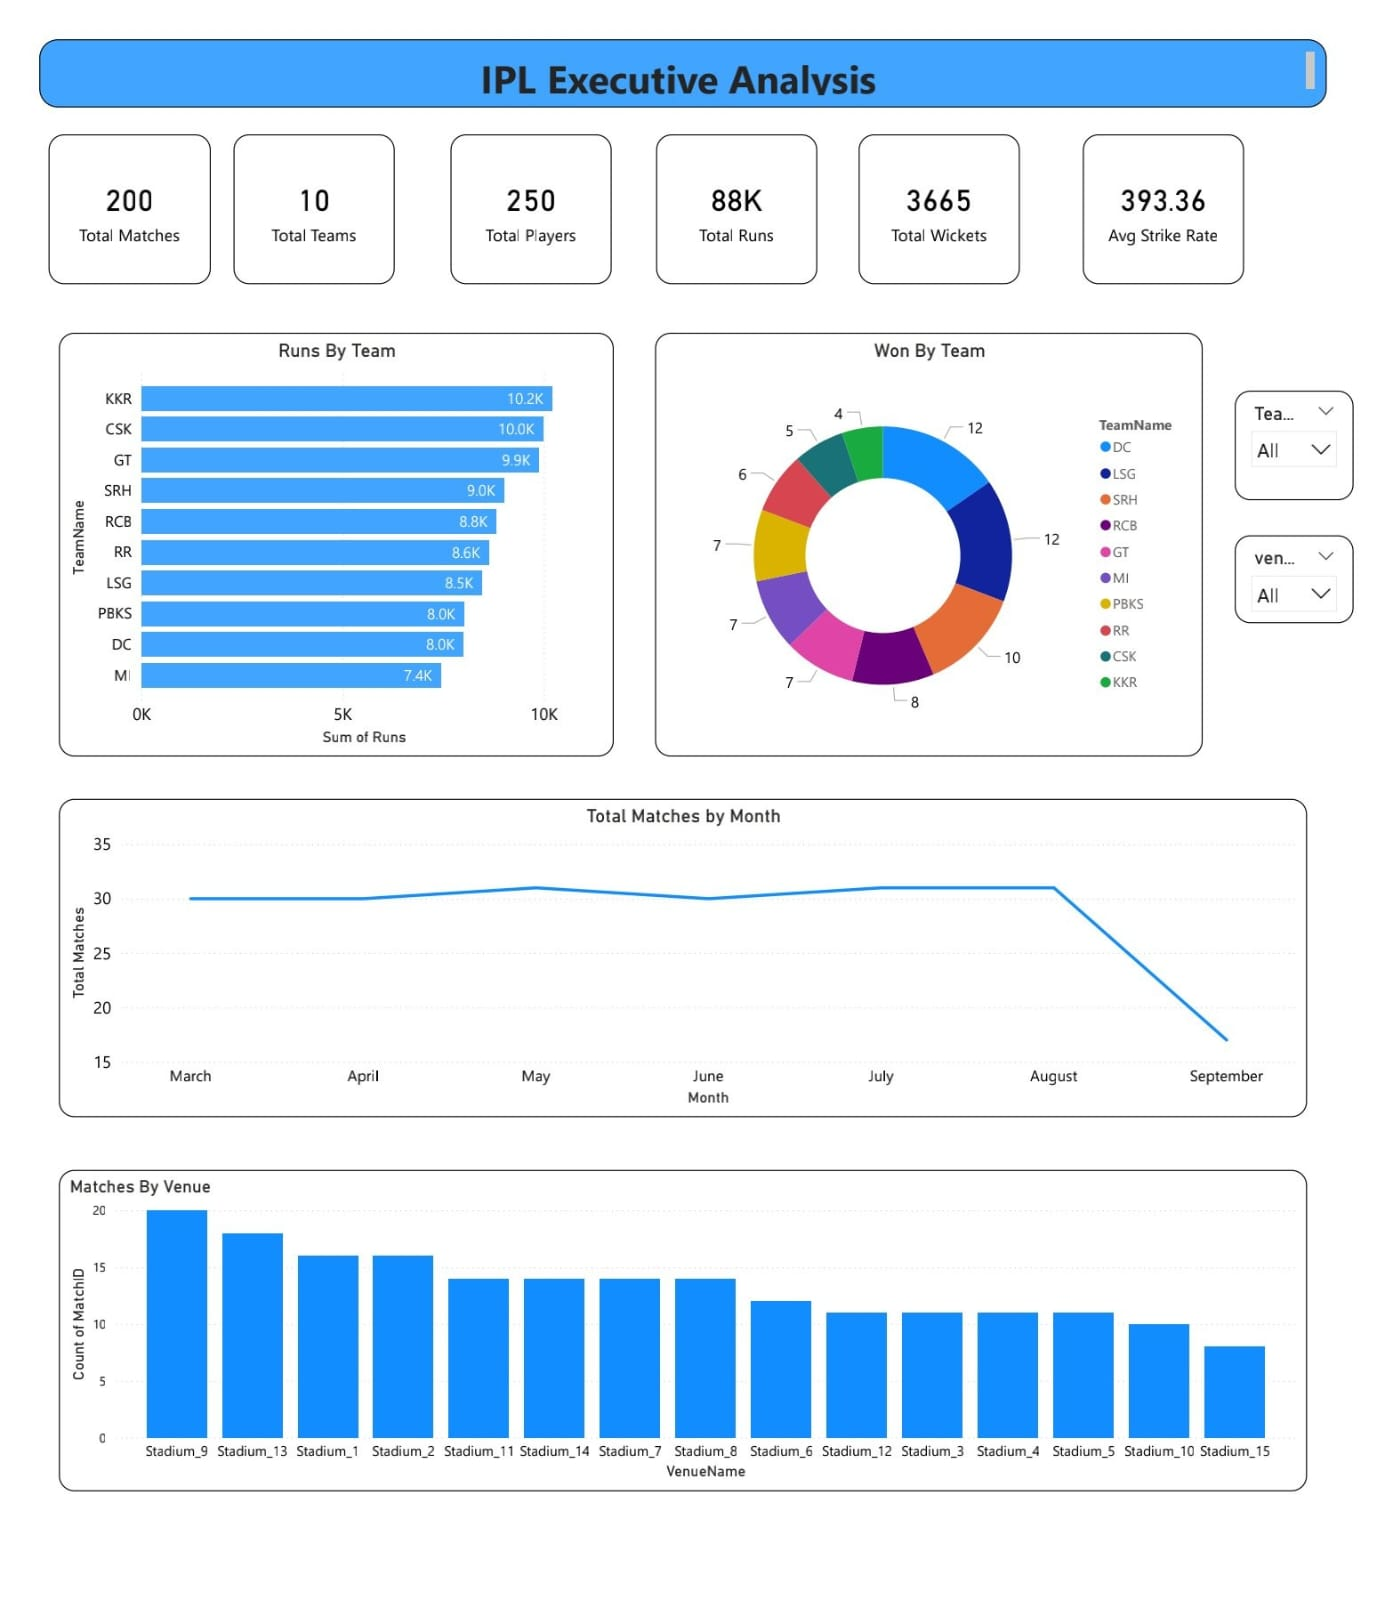

The page's visual inventory and layout, read from the dashboard file:
{"tool":"powerbi","page":{"name":"Exective Analysis","canvas":[1300,1500],"ordinal":0},"visuals":[{"type":"card","fields":{"Values":["BattingStats.Total Matches"]},"box":[23.3,105.7,156.4,145.5],"z":0},{"type":"textbox","box":[13.7,13.7,1246,65.9],"z":1000},{"type":"textbox","box":[92,535,639,150],"z":2000},{"type":"card","fields":{"Values":["Teams.Total Teams"]},"box":[201.7,105.7,156.4,145.5],"z":3000},{"type":"card","fields":{"Values":["Players.Total Players"]},"box":[411.7,105.7,156.4,145.5],"z":4000},{"type":"card","fields":{"Values":["BattingStats.Total Runs"]},"box":[610.6,105.7,156.4,145.5],"z":5000},{"type":"card","fields":{"Values":["BattingStats.Total Wickets"]},"box":[806.9,105.7,156.4,145.5],"z":6000},{"type":"card","fields":{"Values":["BattingStats.Avg Strike Rate"]},"box":[1023.7,105.7,156.4,145.5],"z":7000},{"type":"barChart","fields":{"Y":["Sum(BattingStats.Runs)"],"Category":["Teams.TeamName"]},"box":[45.7,325.7,521.4,360],"z":8000},{"type":"donutChart","fields":{"Category":["Teams.TeamName"],"Y":["Sum(PointsTable.Won)"]},"box":[620,325.7,530,360],"z":9000},{"type":"lineChart","fields":{"Category":["Matches.MatchDate.Variation.Date Hierarchy.Month"],"Y":["BattingStats.Total Matches"]},"box":[33.1,749,1207.5,308.3],"z":10000},{"type":"slicer","fields":{"Values":["Teams.TeamName"]},"box":[1171.4,354.3,114.3,105.7],"z":11000},{"type":"slicer","fields":{"Values":["deliveries.venue"]},"box":[1171.4,494.3,114.3,84.3],"z":12000},{"type":"clusteredColumnChart","fields":{"Category":["Venues.VenueName"],"Y":["CountNonNull(Matches.MatchID)"]},"box":[33.1,1108.2,1207.5,310.8],"z":13000}]}

Visuals, with their boxes in screenshot pixels (x1, y1, x2, y2), scaled from the page's 1300x1500 canvas onto the 1393x1600 screenshot:
card - BattingStats.Total Matches: l=25, t=113, r=193, b=268
textbox: l=15, t=15, r=1350, b=85
textbox: l=99, t=571, r=783, b=731
card - Teams.Total Teams: l=216, t=113, r=384, b=268
card - Players.Total Players: l=441, t=113, r=609, b=268
card - BattingStats.Total Runs: l=654, t=113, r=822, b=268
card - BattingStats.Total Wickets: l=865, t=113, r=1032, b=268
card - BattingStats.Avg Strike Rate: l=1097, t=113, r=1265, b=268
barChart - Sum(BattingStats.Runs) x Teams.TeamName: l=49, t=347, r=608, b=731
donutChart - Teams.TeamName x Sum(PointsTable.Won): l=664, t=347, r=1232, b=731
lineChart - Matches.MatchDate.Variation.Date Hierarchy.Month x BattingStats.Total Matches: l=35, t=799, r=1329, b=1128
slicer - Teams.TeamName: l=1255, t=378, r=1378, b=491
slicer - deliveries.venue: l=1255, t=527, r=1378, b=617
clusteredColumnChart - Venues.VenueName x CountNonNull(Matches.MatchID): l=35, t=1182, r=1329, b=1514
